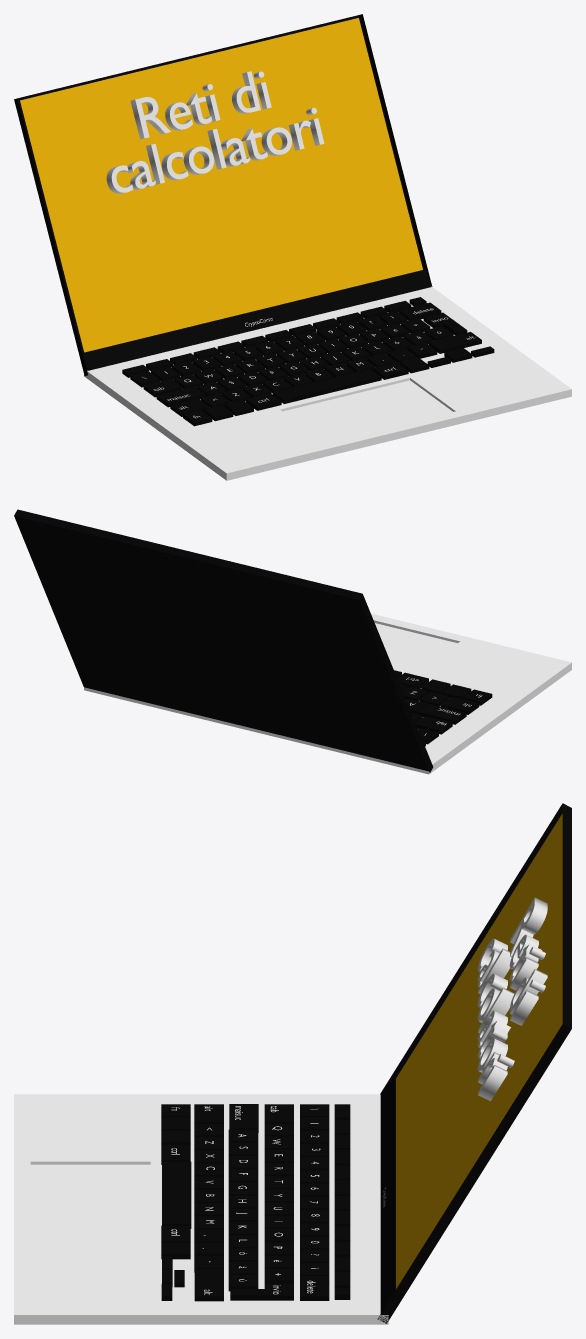
File: reti.glb
The picture shows the model from 3 angles, top to bottom: view 1: azimuth 30°, elevation 25°; view 2: azimuth 150°, elevation 25°; view 3: azimuth 270°, elevation 25°; orthographic projection. The views are drawn at different scales.
Parts seen in each view (by area): view 1: Cube.073, Cube, Cube.074, Text.001, Cube.001, Text, Cube.072, Cube.123; view 2: Cube.001, Cube, Cube.065, Cube.064, Cube.066, Cube.071; view 3: Cube, Cube.073, Cube.001, Text.001, Cube.074, Text, Cube.072, Cube.123, Cube.065, Cube.027.
Boxes of the visible parts, x1=… form: Cube.073: x1=20, y1=18, x2=422, y2=352; Cube: x1=84, y1=286, x2=571, y2=480; Cube.074: x1=82, y1=269, x2=431, y2=370; Text.001: x1=106, y1=107, x2=324, y2=193; Cube.001: x1=14, y1=14, x2=432, y2=375; Text: x1=130, y1=71, x2=271, y2=139; Cube.072: x1=272, y1=368, x2=381, y2=403; Cube.123: x1=428, y1=332, x2=481, y2=353; Cube.001: x1=14, y1=509, x2=433, y2=772; Cube: x1=84, y1=613, x2=571, y2=774; Cube.065: x1=417, y1=703, x2=466, y2=724; Cube.064: x1=440, y1=696, x2=479, y2=714; Cube.066: x1=415, y1=716, x2=452, y2=734; Cube.071: x1=397, y1=672, x2=428, y2=688; Cube: x1=14, y1=1094, x2=388, y2=1324; Cube.073: x1=396, y1=813, x2=562, y2=1288; Cube.001: x1=377, y1=803, x2=571, y2=1323; Text.001: x1=477, y1=938, x2=514, y2=1101; Cube.074: x1=380, y1=1077, x2=396, y2=1313; Text: x1=509, y1=897, x2=547, y2=1025; Cube.072: x1=162, y1=1161, x2=191, y2=1228; Cube.123: x1=194, y1=1269, x2=223, y2=1301; Cube.065: x1=229, y1=1104, x2=258, y2=1132; Cube.027: x1=300, y1=1276, x2=329, y2=1300.
Size of the model in its own units: 6.79 by 4.31 by 7.25.
